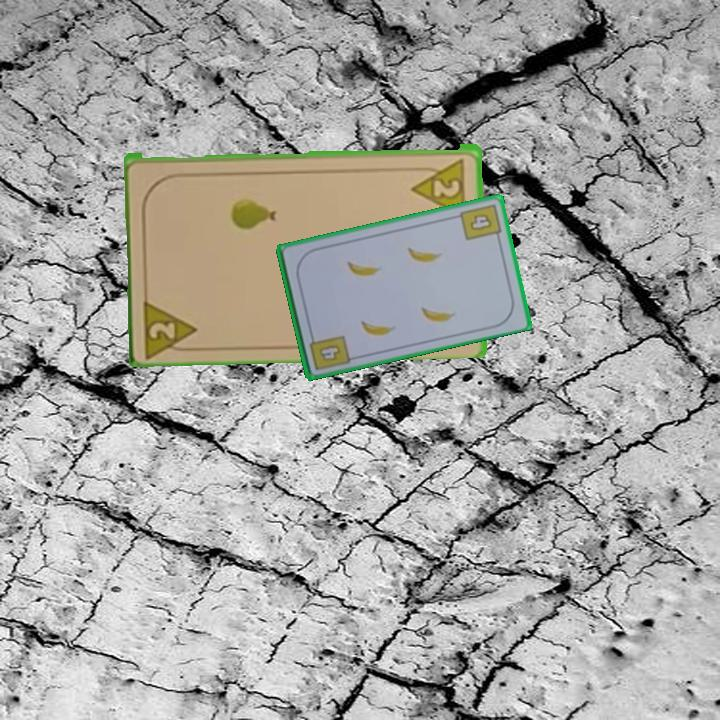2p: (140, 292, 202, 358), (409, 154, 469, 217)
4b: (306, 329, 353, 373), (456, 200, 504, 243)
